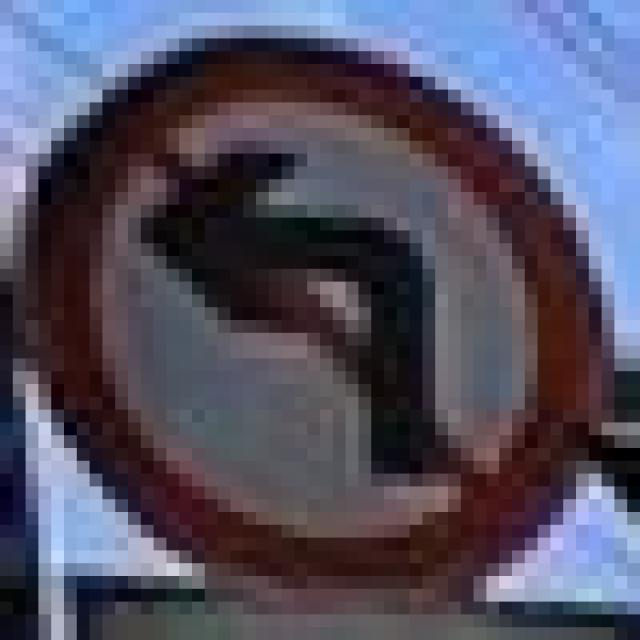left turn prohibited: (48, 30, 601, 592)
